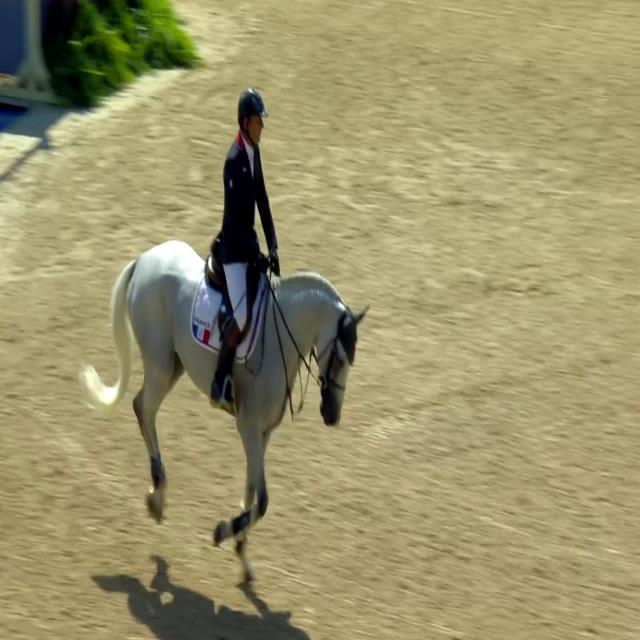Horse Rider: (203, 65, 280, 402)
Horse Running: (74, 176, 374, 590)
